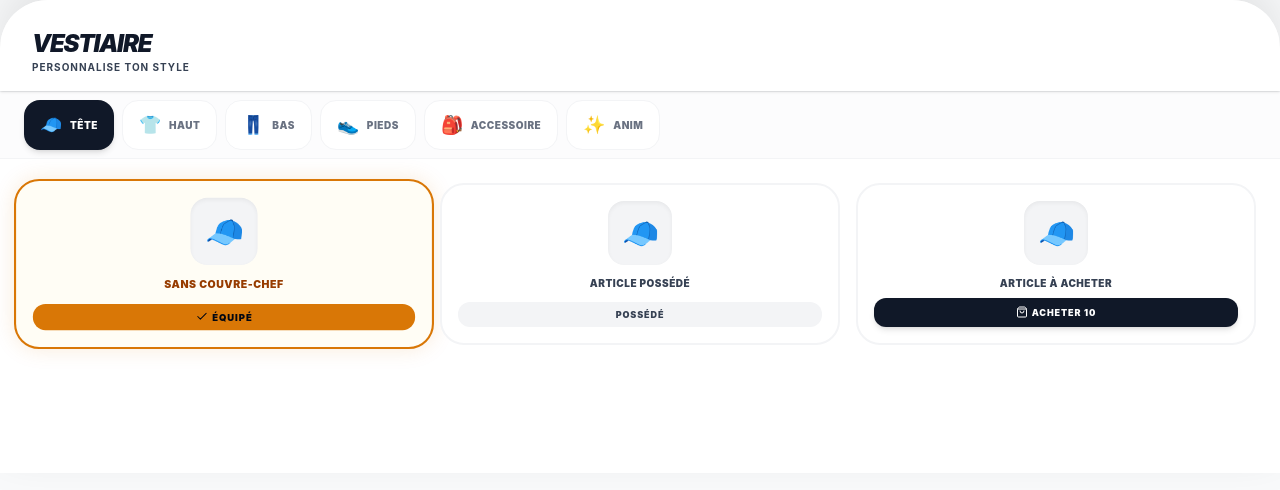
Scenario: Vestiaire : équipement et droits existants › conserve la tenue et permet de réessayer après false
The width and height of the screenshot is (1280, 490).
Click the text "Article possédé". click: click(640, 283)
box: [590,277,690,290]
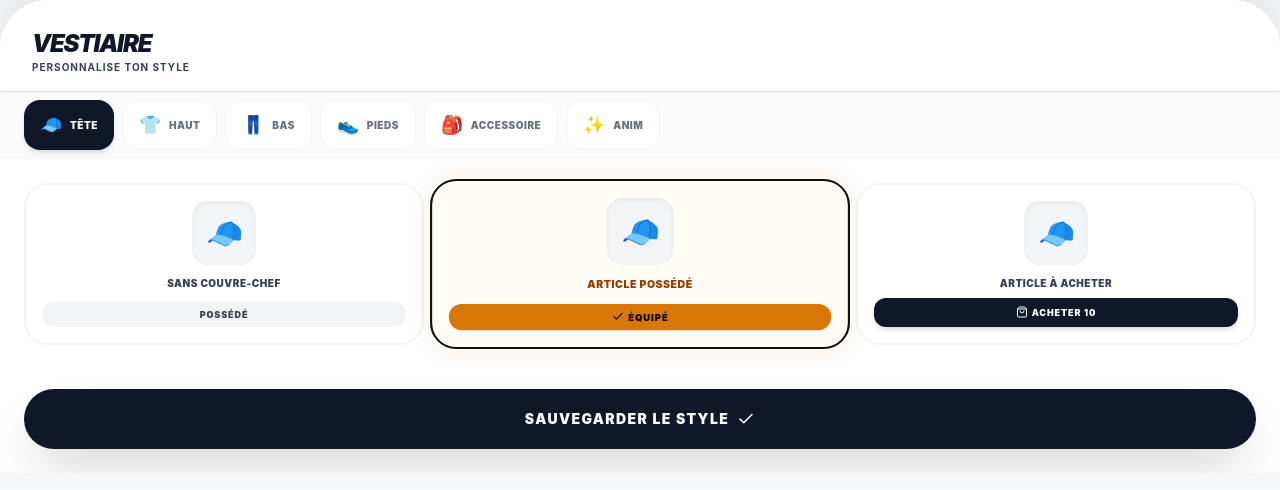
Click the button "SAUVEGARDER LE STYLE". click: click(640, 419)
box: [24,389,1256,449]
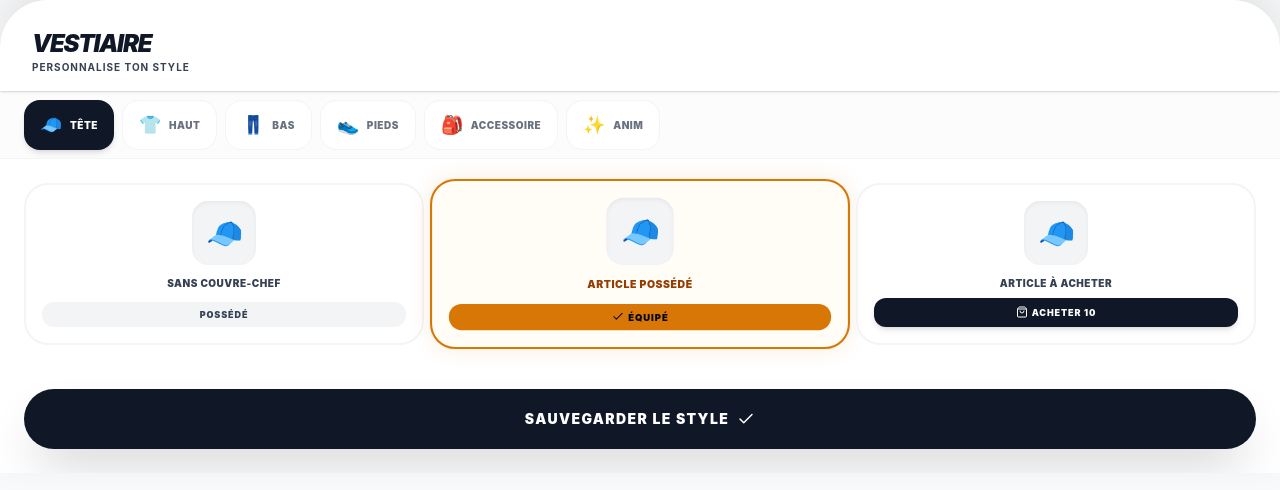
Now the button "SAUVEGARDER LE STYLE" is enabled
Click the button "SAUVEGARDER LE STYLE". click: click(640, 419)
box: [24,389,1256,449]
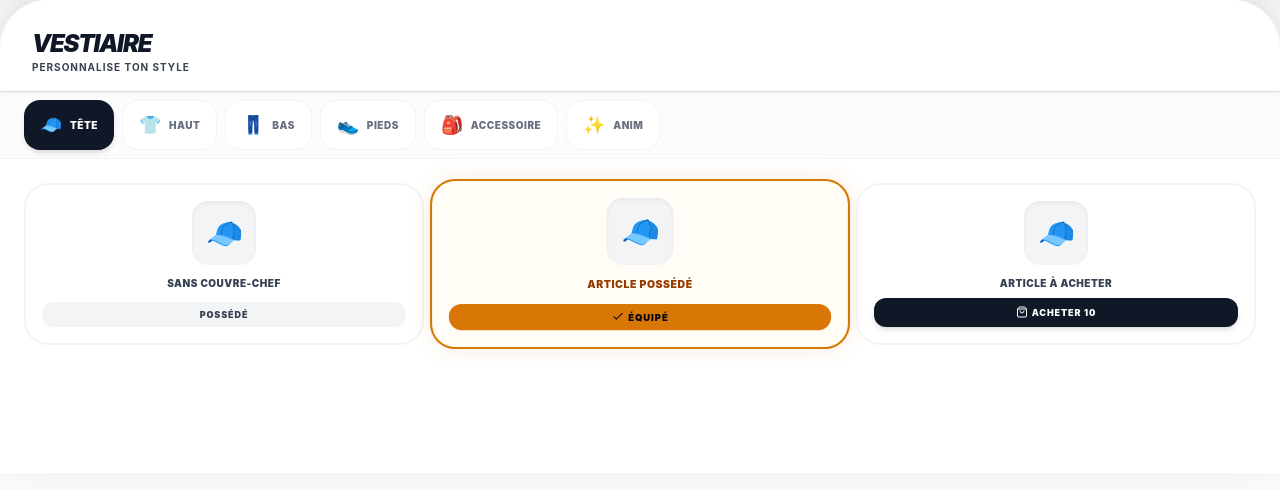
Now the button "SAUVEGARDER" is gone
